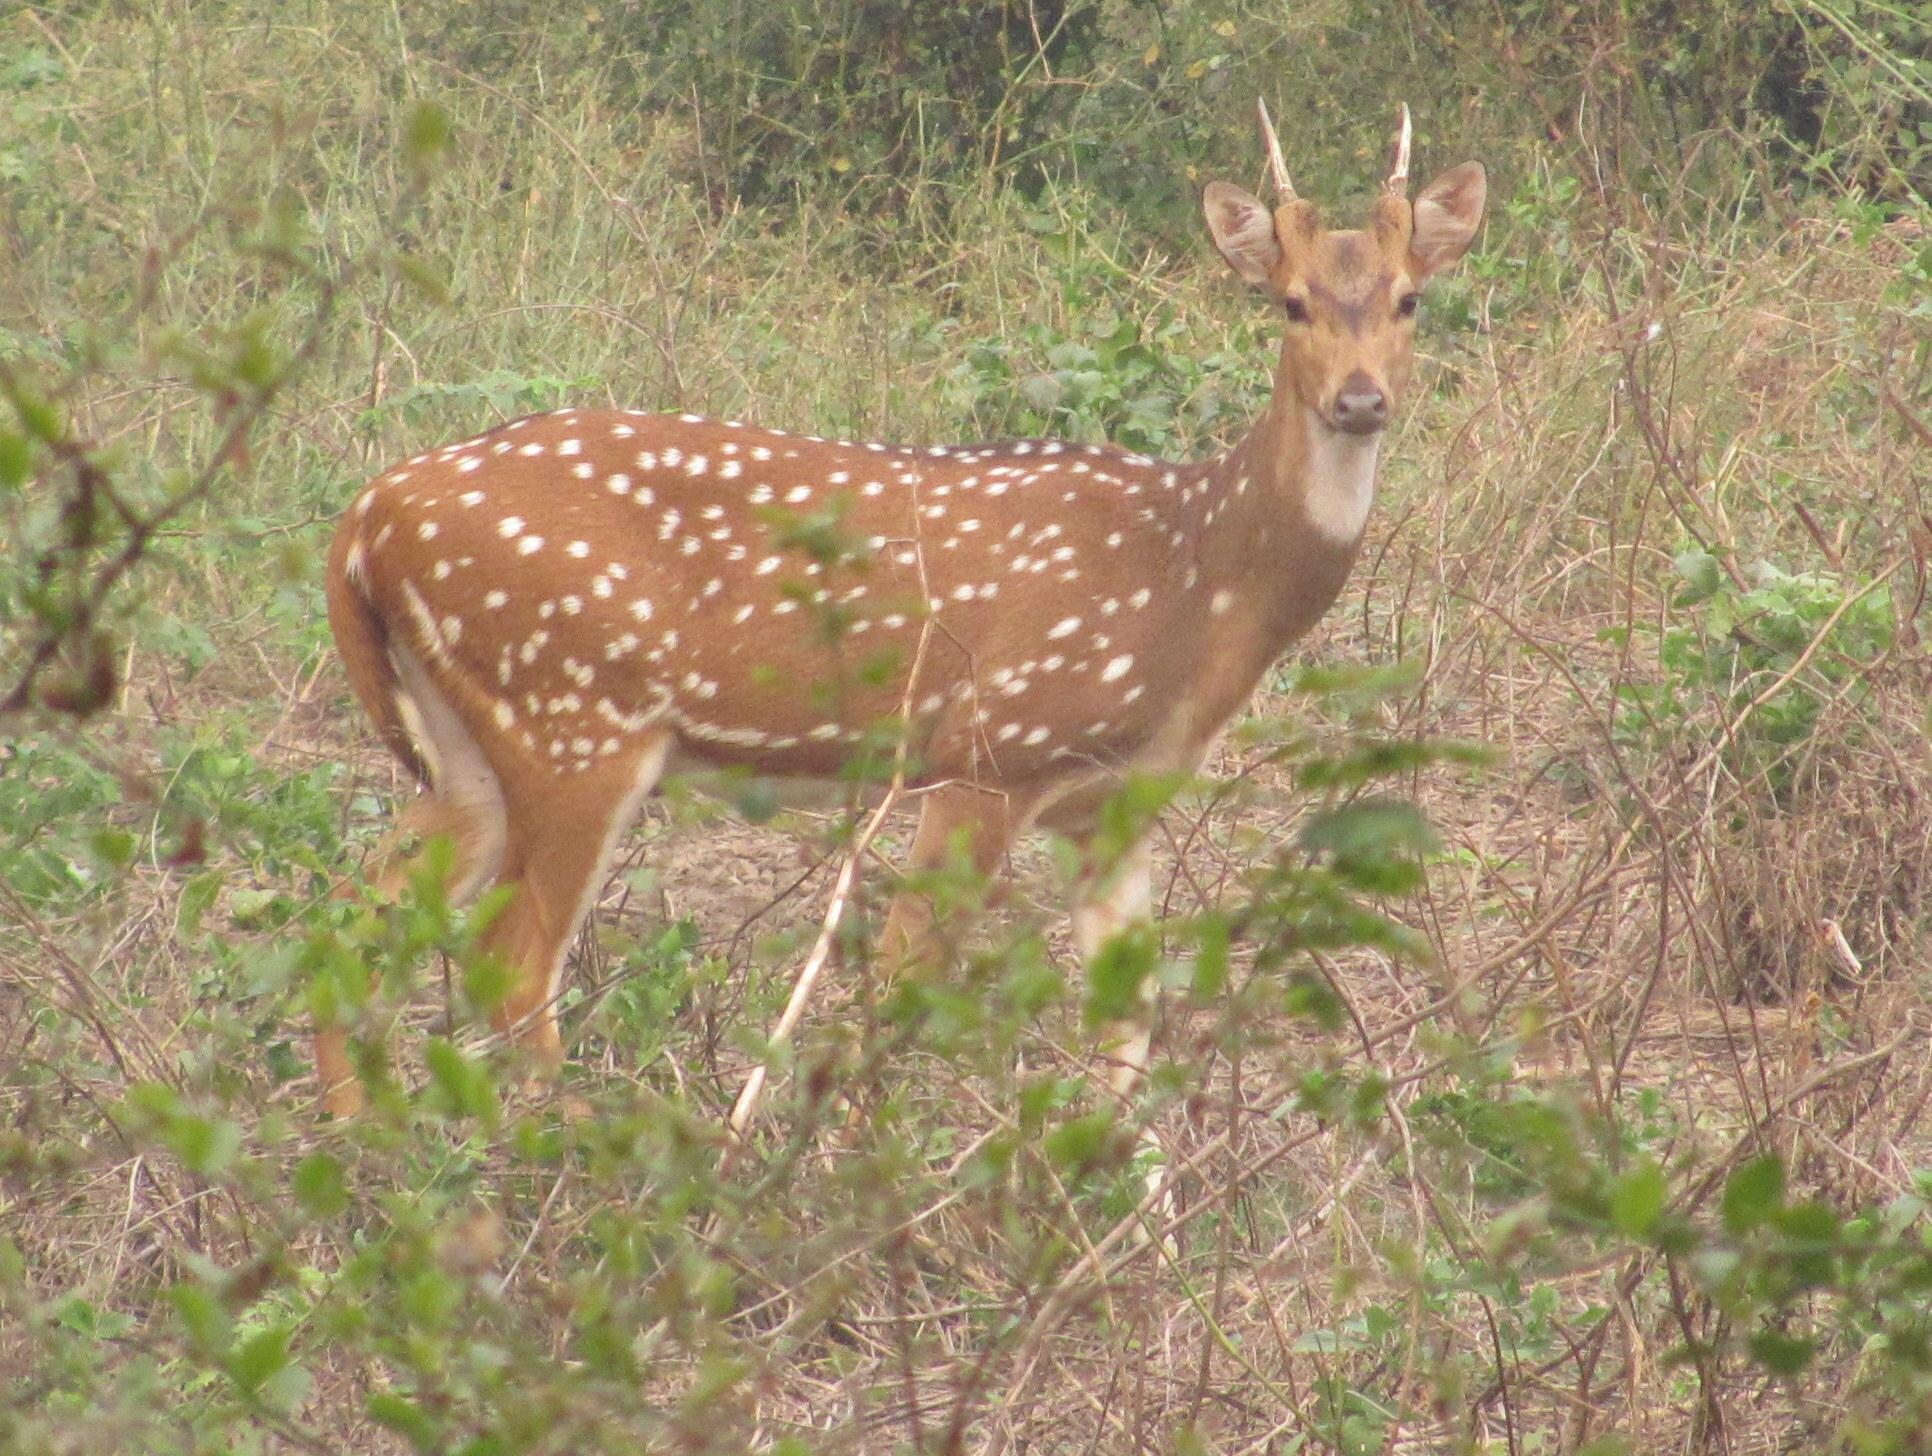Deer: (326, 96, 1485, 1048)
